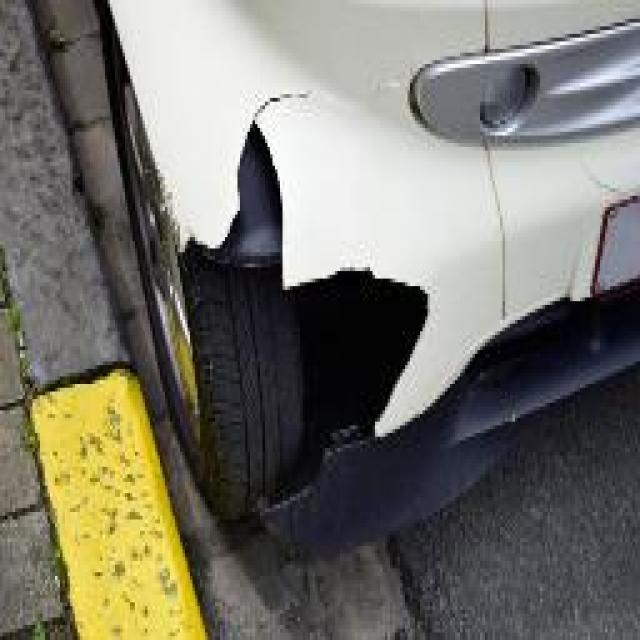Bumper: (175, 60, 640, 497)
